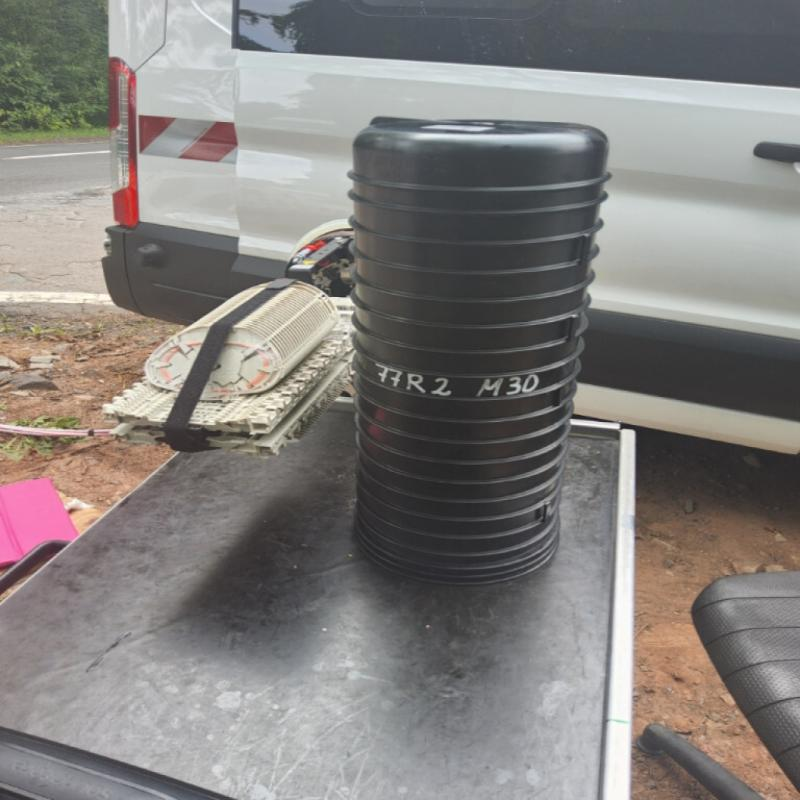NT-Muffen: (340, 115, 619, 582), (102, 221, 360, 462)
